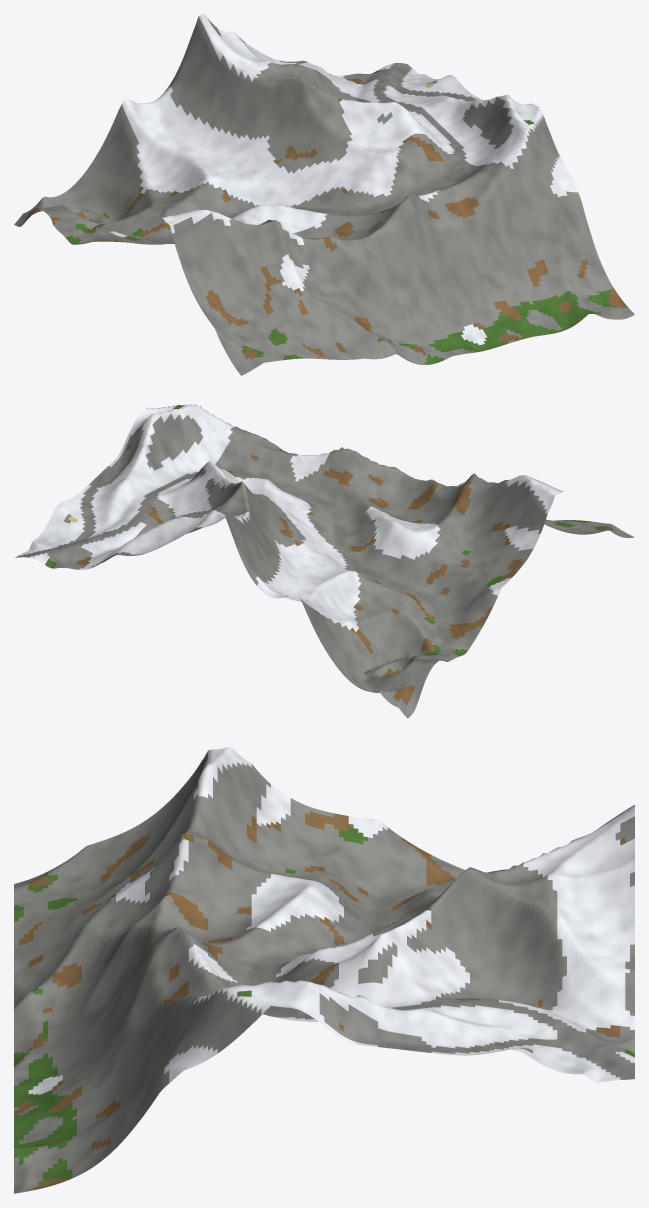
Rendered from chunk_5_2.glb.
3 views of the same model, one above another, from view 1: azimuth 30°, elevation 25°; view 2: azimuth 150°, elevation 25°; view 3: azimuth 270°, elevation 25° (orthographic). The views are drawn at different scales.
Parts seen in each view (by area): view 1: Surface_Gravel, Surface_Snow, Surface_Dirt, Surface_Grass; view 2: Surface_Gravel, Surface_Snow, Surface_Dirt, Surface_Grass; view 3: Surface_Gravel, Surface_Snow, Surface_Dirt, Surface_Grass.
Boxes of the visible parts, box(x1,y1,x2,y2) form: Surface_Gravel: box(14, 16, 634, 375); Surface_Snow: box(108, 14, 577, 345); Surface_Dirt: box(26, 32, 627, 359); Surface_Grass: box(66, 70, 616, 364); Surface_Gravel: box(15, 413, 634, 718); Surface_Snow: box(19, 404, 563, 631); Surface_Dirt: box(75, 444, 614, 705); Surface_Grass: box(45, 405, 610, 674); Surface_Gravel: box(14, 752, 634, 1193); Surface_Snow: box(28, 747, 634, 1094); Surface_Dirt: box(14, 811, 625, 1190); Surface_Grass: box(14, 827, 634, 1183).
Bounding box in the file's own units: 256 × 116 × 256.
